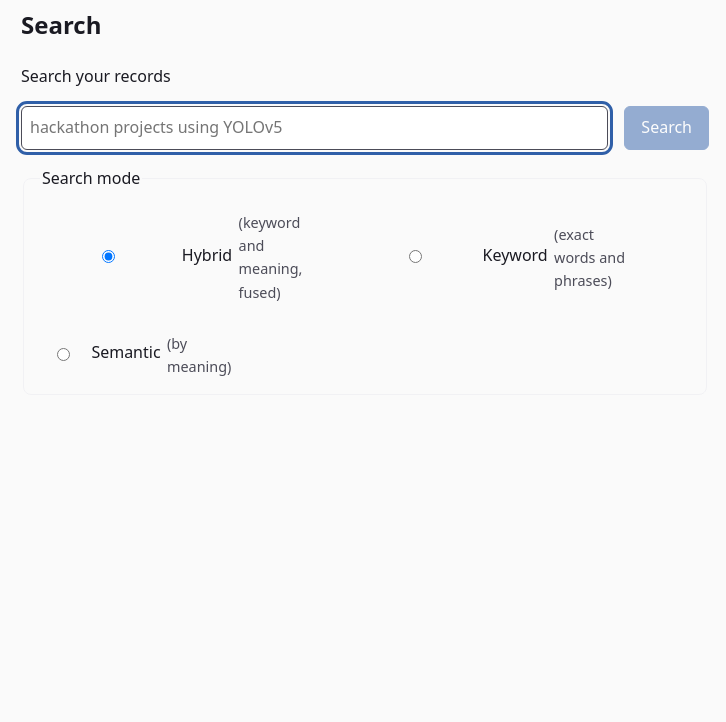
Test: SearchPage (MVP-018; FS-004; NFR-043; ACCESSIBILITY 4.3/4.5) › searches by keyboard alone and renders result rows with badges and locators
Type "zebra" into the search field labelled "Search your records" at [315, 128], box [21,106,608,150]
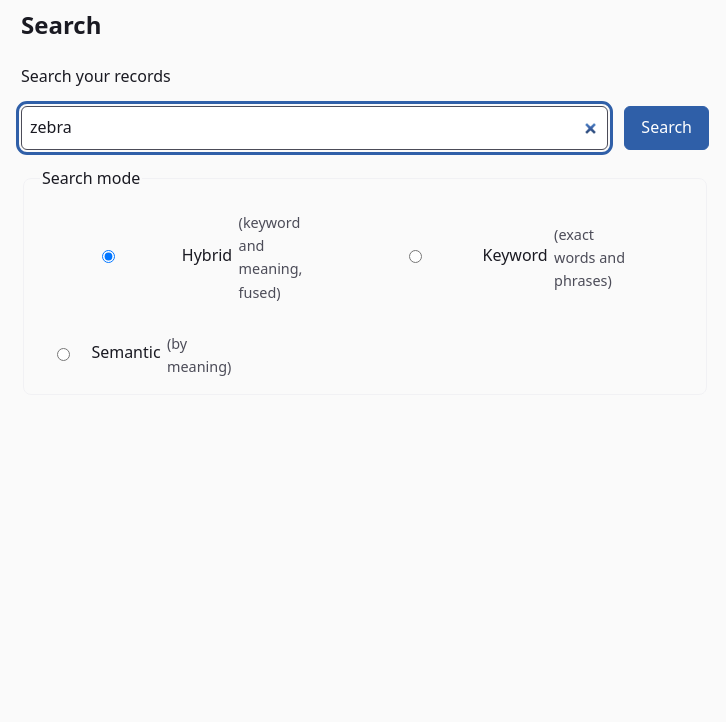
Click the button "Search" at [667, 128], box [624,106,709,150]
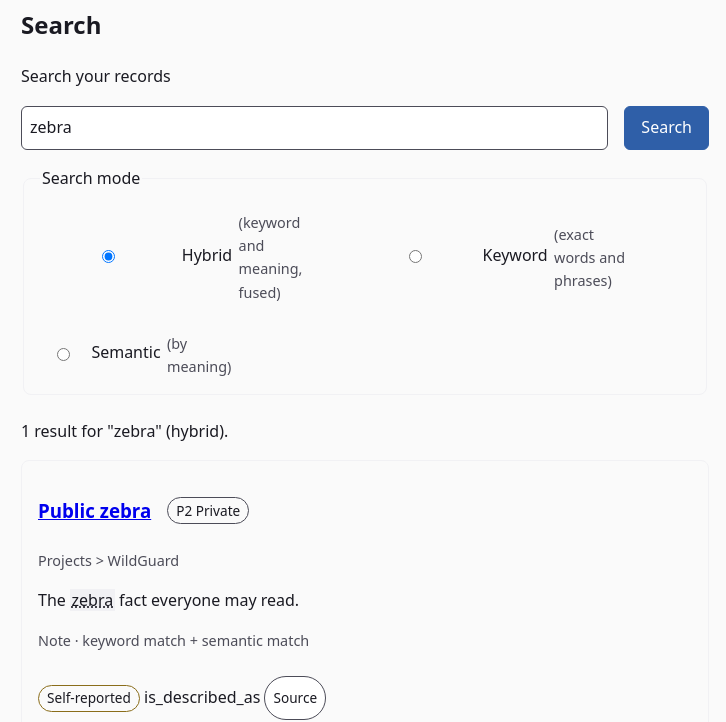
Expected: the text "P2 Private" is shown, [167,498,249,524]
Expected: the text "Self-reported" is shown, [38,685,140,712]
Expected: the text "Projects > WildGuard" is shown, [38,551,179,570]
